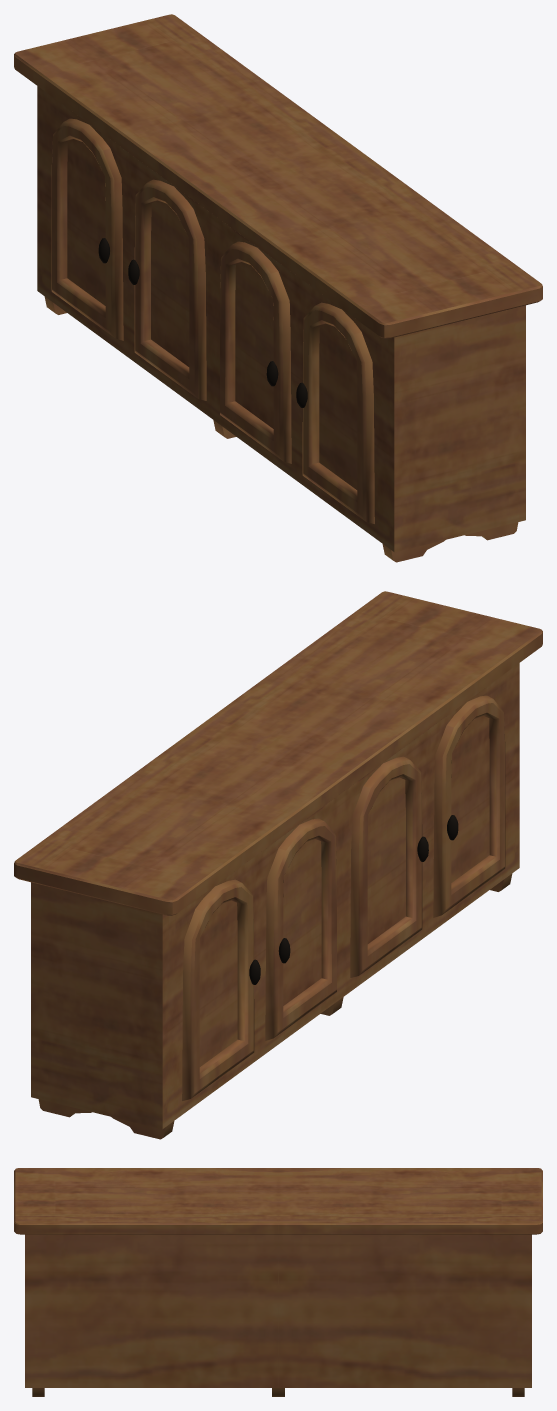
Rendered from CI_079_cupboard_var2.glb.
The picture shows the model from 3 angles, top to bottom: view 1: azimuth 30°, elevation 25°; view 2: azimuth 150°, elevation 25°; view 3: azimuth 270°, elevation 25°; orthographic projection. The views are drawn at different scales.
Parts seen in each view (by area): view 1: cupboard; view 2: cupboard; view 3: cupboard.
Boxes of the visible parts, x1=… form: cupboard: x1=14, y1=14, x2=542, y2=562; cupboard: x1=14, y1=591, x2=542, y2=1139; cupboard: x1=14, y1=1168, x2=542, y2=1396.
Size of the model in its own units: 0.7553 by 1.12 by 3.
Materials: 2 (1 with a texture image).
